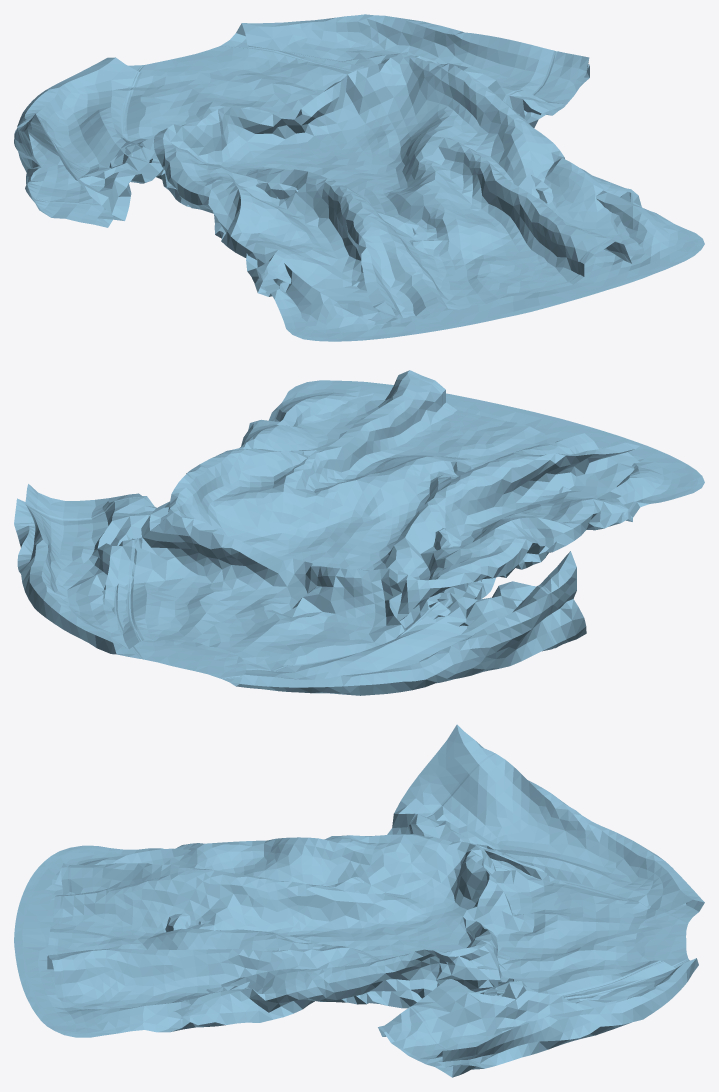
The model's file is frame_04.glb.
The picture shows the model from 3 angles, top to bottom: view 1: azimuth 30°, elevation 25°; view 2: azimuth 150°, elevation 25°; view 3: azimuth 270°, elevation 25°; orthographic projection. The views are drawn at different scales.
Visible parts, largest first — view 1: frame_04.obj; view 2: frame_04.obj; view 3: frame_04.obj.
Boxes of the visible parts, x1,y1,x2,y2 form: frame_04.obj: (14, 14, 704, 341); frame_04.obj: (14, 370, 704, 695); frame_04.obj: (14, 724, 704, 1077).
Bounding box in the file's own units: 1.66 × 0.2887 × 1.83.
